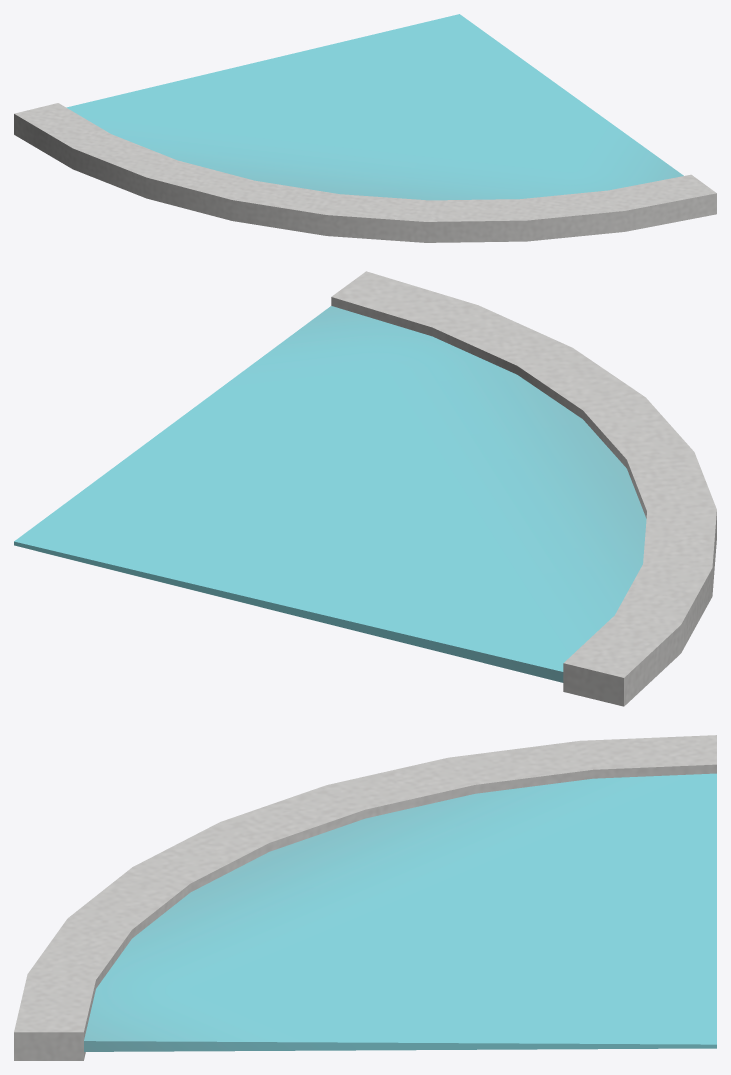
The model's file is Window_Frame_Rounded_1_LOD0.fbx.
3 renders of one model, top to bottom at view 1: azimuth 30°, elevation 25°; view 2: azimuth 150°, elevation 25°; view 3: azimuth 270°, elevation 25°, orthographic. The views are drawn at different scales.
Visible parts, largest first — view 1: Window_Frame_Rounded_1_LOD0; view 2: Window_Frame_Rounded_1_LOD0; view 3: Window_Frame_Rounded_1_LOD0.
Part boxes in pixels (x1,y1,x2,y2): Window_Frame_Rounded_1_LOD0: (14, 14, 716, 242); Window_Frame_Rounded_1_LOD0: (14, 271, 716, 706); Window_Frame_Rounded_1_LOD0: (14, 735, 716, 1060).
Size of the model in its own units: 200 by 9 by 200.
